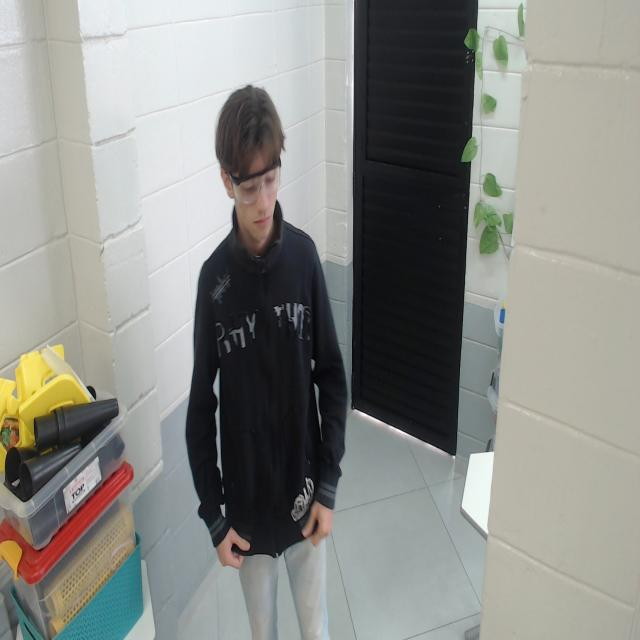oculos-epi: (228, 156, 281, 207)
